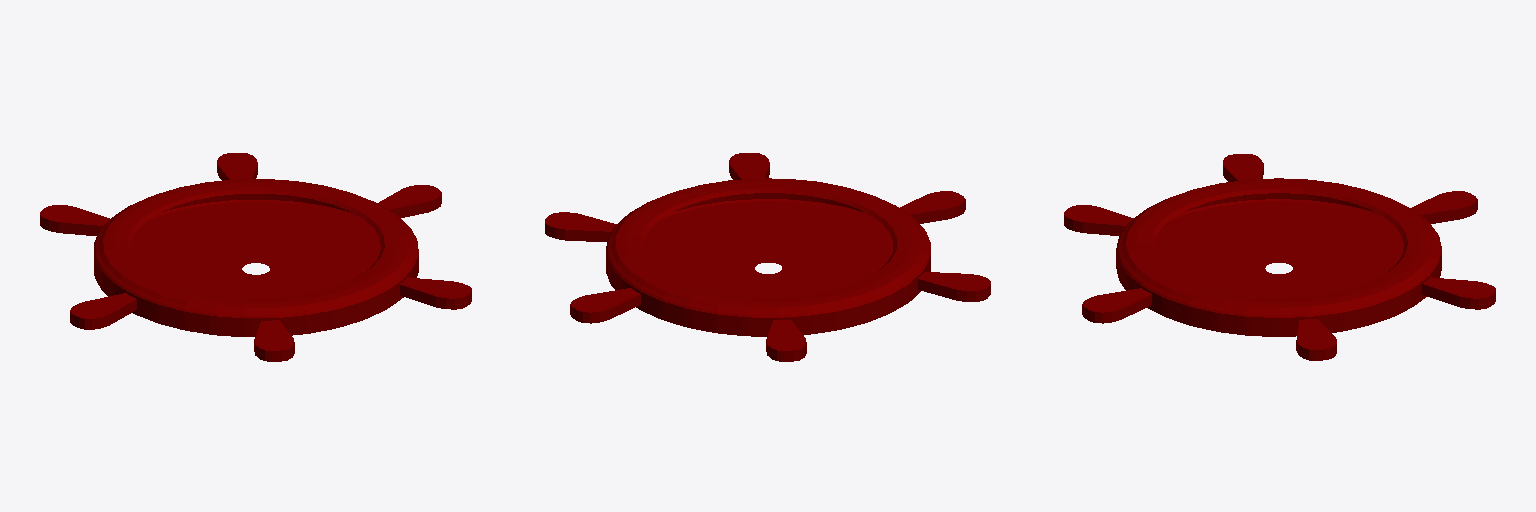
The model's file is meja2-3.obj.
3 views of the same model, side by side, from view 1: azimuth 30°, elevation 25°; view 2: azimuth 150°, elevation 25°; view 3: azimuth 270°, elevation 25° (orthographic).
Parts seen in each view (by area): view 1: Cube.008_Cube.371_Cube.008_Cube.004; view 2: Cube.008_Cube.371_Cube.008_Cube.004; view 3: Cube.008_Cube.371_Cube.008_Cube.004.
Part boxes in pixels (x1,y1,x2,y2): Cube.008_Cube.371_Cube.008_Cube.004: (40,153,471,361); Cube.008_Cube.371_Cube.008_Cube.004: (545,153,990,361); Cube.008_Cube.371_Cube.008_Cube.004: (1064,154,1495,360).
Size of the model in its own units: 5.53 by 0.3525 by 5.15.